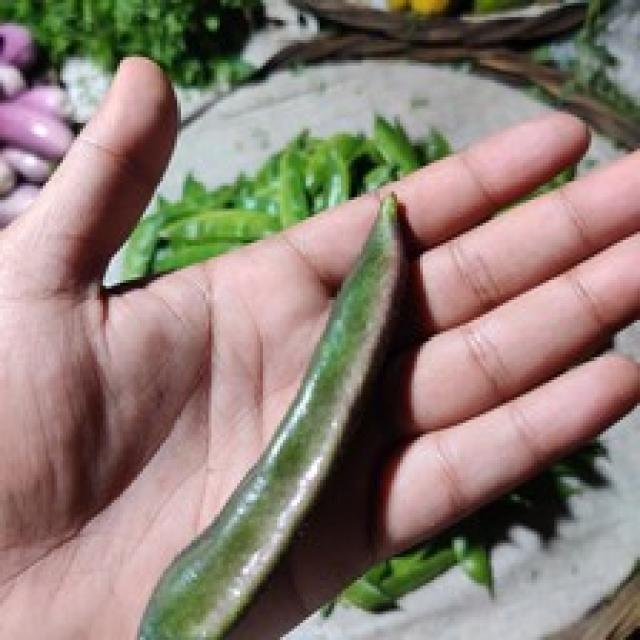Bean: (128, 189, 408, 637)
